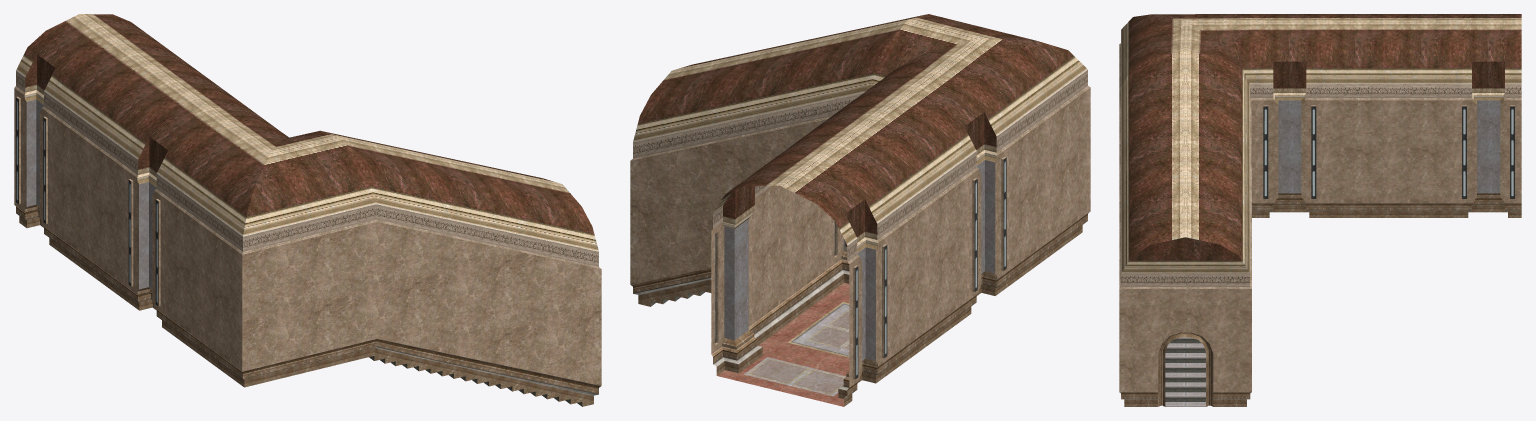
The model's file is thm_nboo_thed_theed_palace_r13_mesh_r13.fbx.
3 views of the same model, side by side, from view 1: azimuth 30°, elevation 25°; view 2: azimuth 150°, elevation 25°; view 3: azimuth 270°, elevation 25° (orthographic). The views are drawn at different scales.
Visible parts, largest first — view 1: mesh_node; view 2: mesh_node; view 3: mesh_node.
Part boxes in pixels (<box>): mesh_node: <box>14,14,601,406</box>; mesh_node: <box>630,14,1090,406</box>; mesh_node: <box>1119,14,1521,406</box>.
Size of the model in its own units: 22.25 by 17.41 by 24.3.
